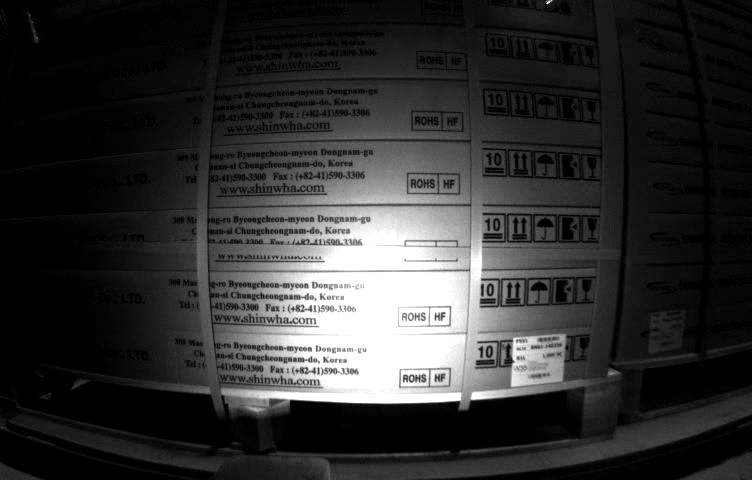True Barcode: (512, 333, 565, 384), (650, 309, 683, 352)
